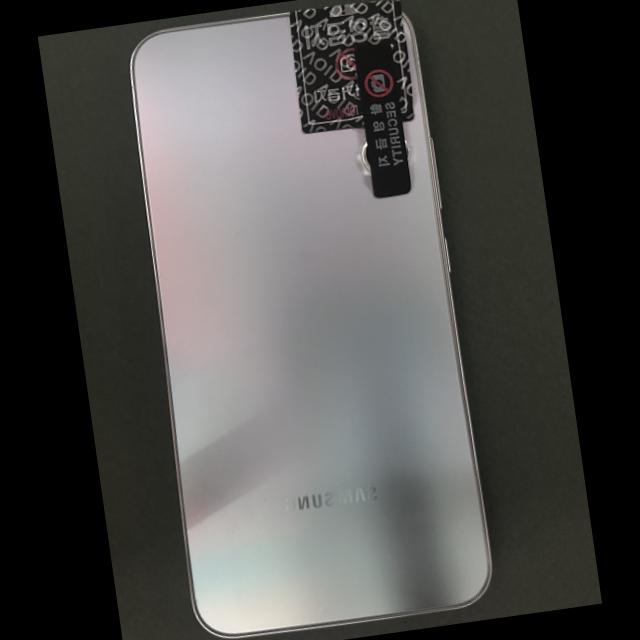lens: (362, 141, 370, 171)
phone: (130, 4, 489, 636)
sticker: (289, 0, 415, 134), (354, 46, 411, 198)
